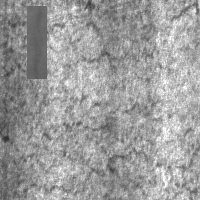crazing: (1, 105, 198, 194), (1, 20, 152, 76)
inclusion: (27, 6, 47, 79)
